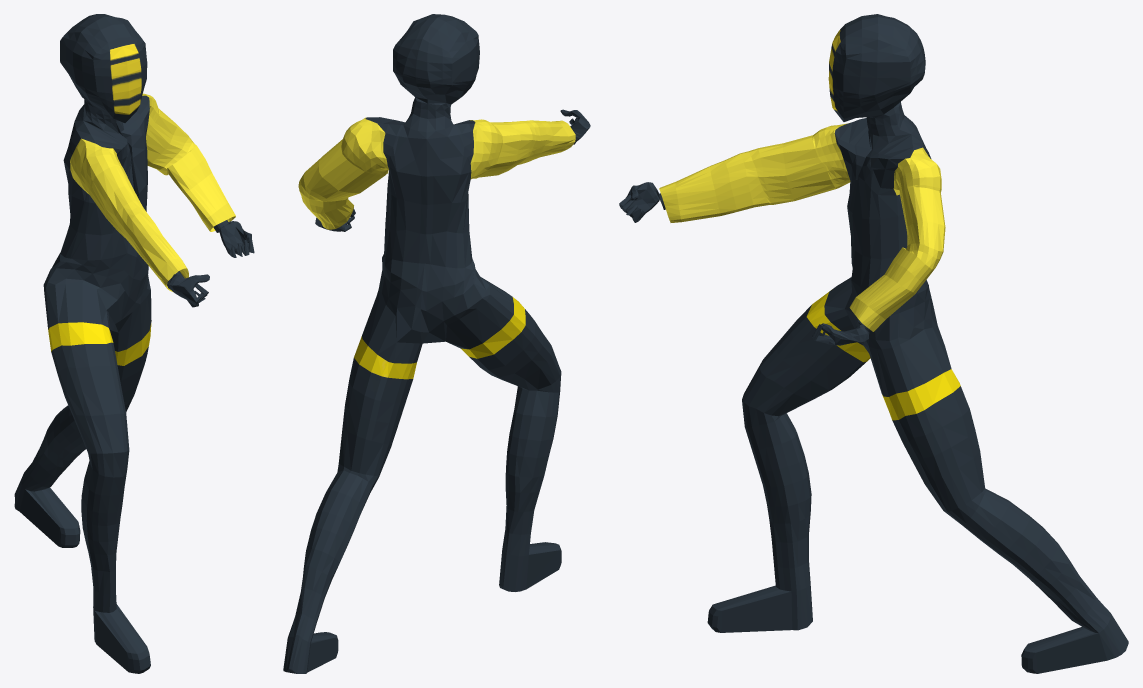
Rendered from Sentry_Attack_000034.obj.
The picture shows the model from 3 angles, left to right: view 1: azimuth 30°, elevation 25°; view 2: azimuth 150°, elevation 25°; view 3: azimuth 270°, elevation 25°; orthographic projection. The views are drawn at different scales.
Visible parts, largest first — view 1: Cube; view 2: Cube; view 3: Cube.
Boxes of the visible parts, bbox=[...] form: Cube: bbox=[14, 14, 254, 673]; Cube: bbox=[283, 14, 590, 673]; Cube: bbox=[619, 14, 1128, 673].
Bounding box in the file's own units: 1.3 × 3.66 × 2.67.
